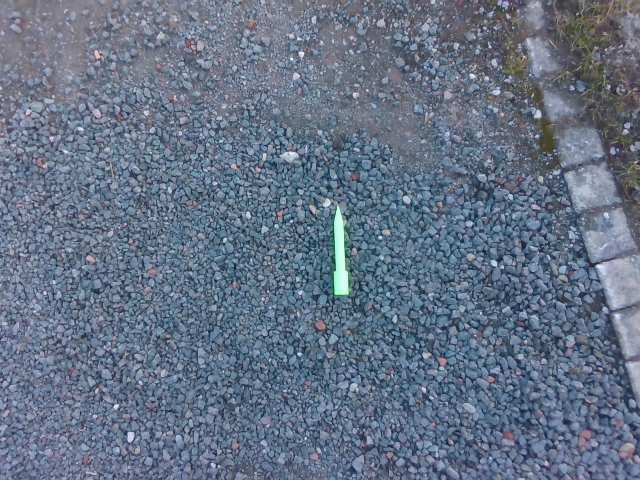Probe: (329, 202, 351, 297)
